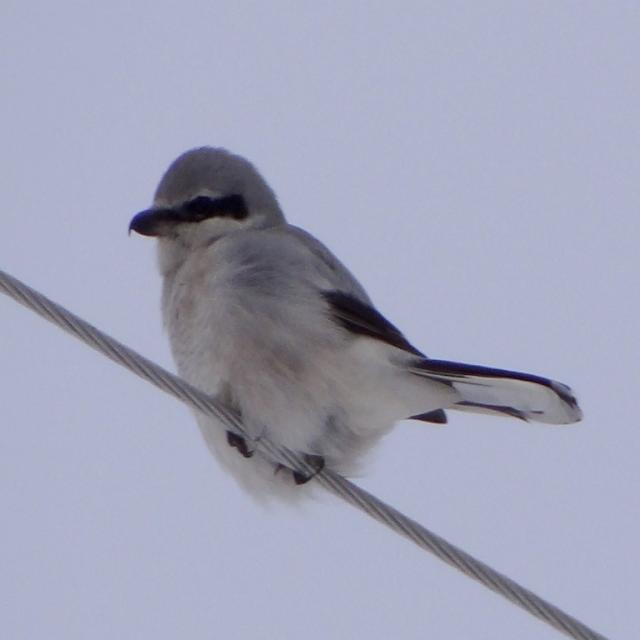bird: (117, 126, 594, 516)
